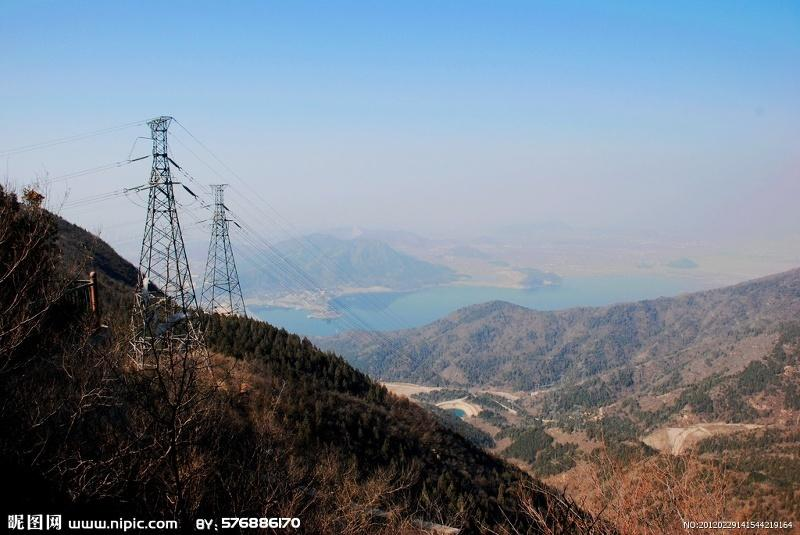power_tower: (122, 97, 196, 344), (198, 166, 252, 330)
